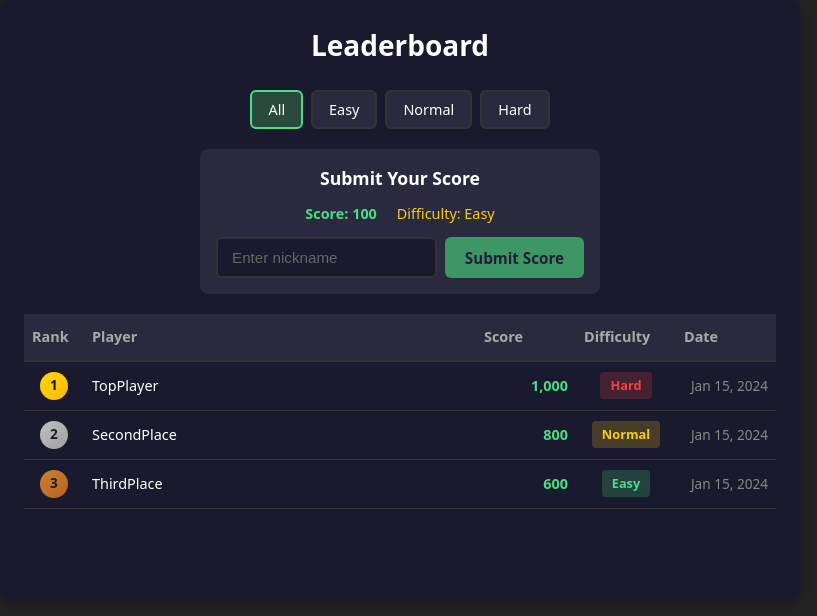
Test: Leaderboard › score submission › shows error when user is not authenticated
This screenshot has width=817, height=616.
Type "TestPlayer" into the field with test id "nickname-input" at [326, 258], box [216,237,437,278]
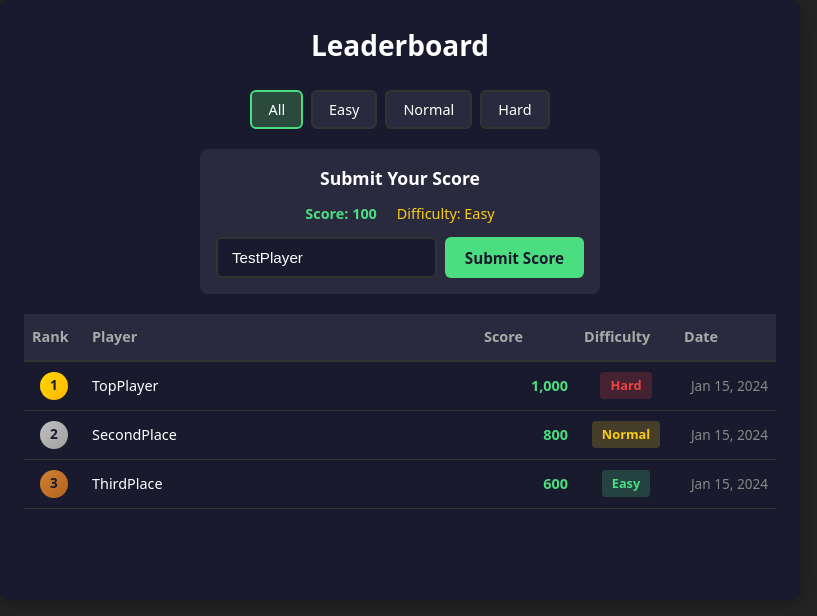
Click the button with test id "submit-score-button" at [514, 258], box [445,237,584,278]
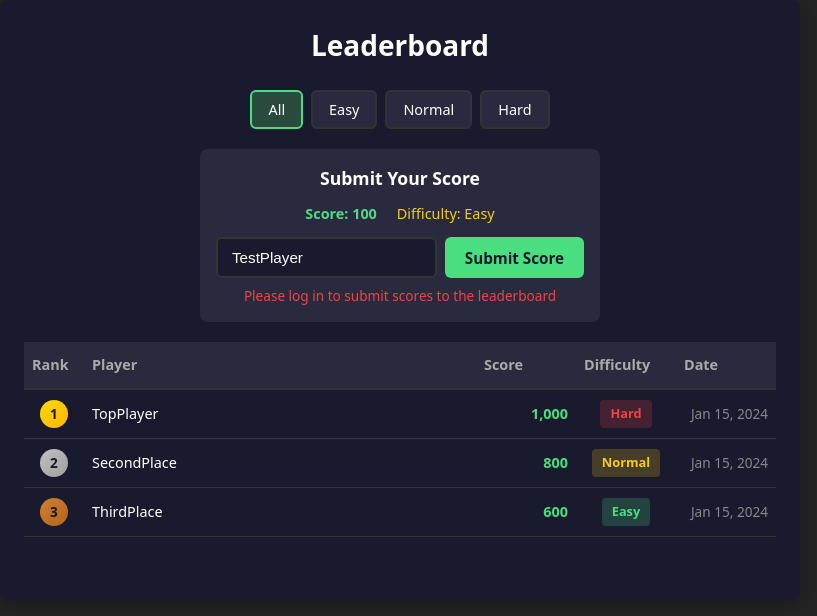
Expected: the text "Please log in to submit scores to the leaderboard" is shown, [244,286,556,305]
